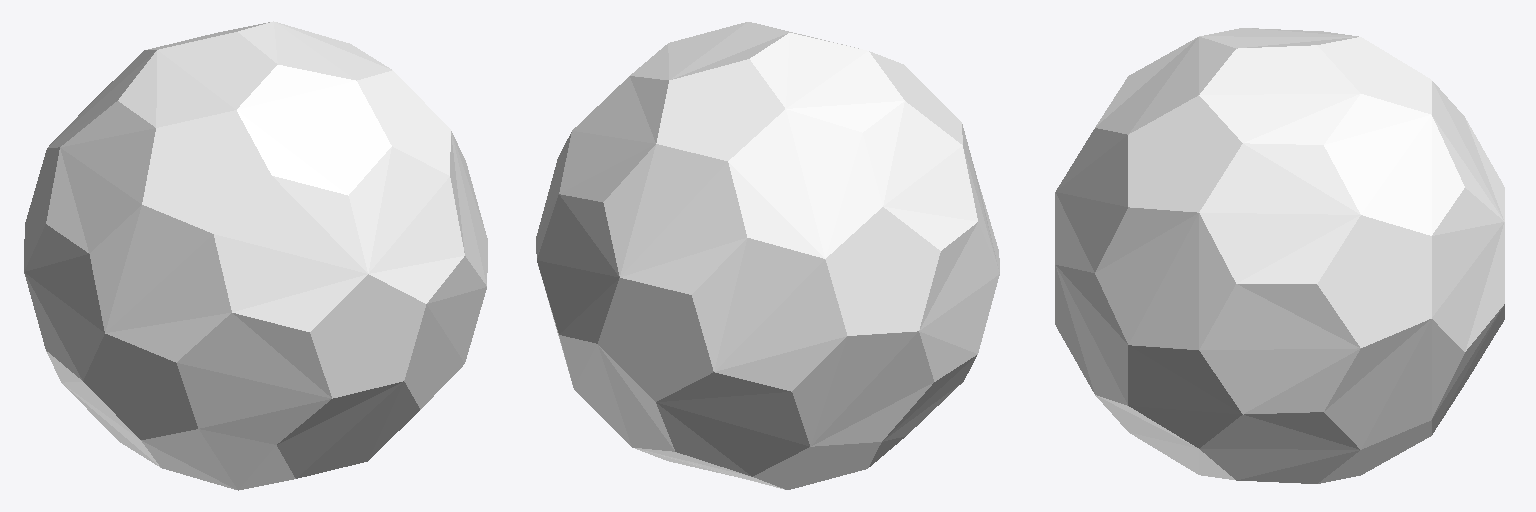
Rendered from hsphere.obj.
3 renders of one model, left to right at view 1: azimuth 30°, elevation 25°; view 2: azimuth 150°, elevation 25°; view 3: azimuth 270°, elevation 25°, orthographic.
Parts seen in each view (by area): view 1: geo1_geo1.001; view 2: geo1_geo1.001; view 3: geo1_geo1.001.
Part boxes in pixels (left/top/right/bottom): geo1_geo1.001: left=24, top=21, right=487, bottom=490; geo1_geo1.001: left=536, top=22, right=999, bottom=489; geo1_geo1.001: left=1055, top=28, right=1504, bottom=483.
Size of the model in its own units: 0.0033 by 0.0034 by 0.0033.